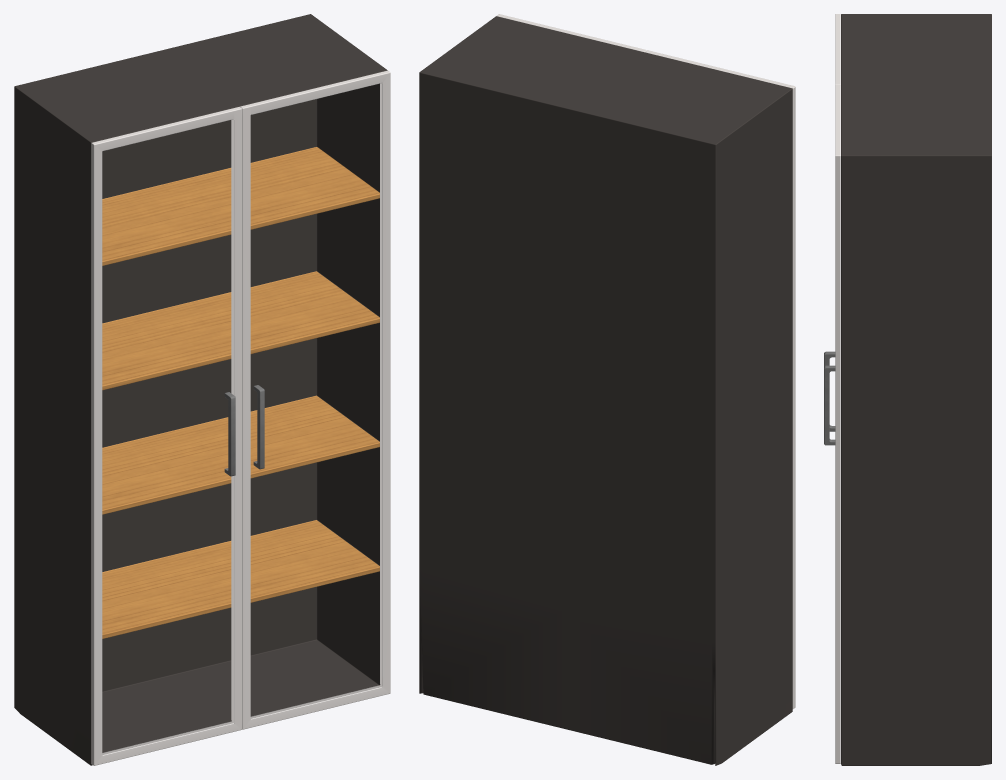
Rendered from cupboard.fbx.
3 renders of one model, left to right at view 1: azimuth 30°, elevation 25°; view 2: azimuth 150°, elevation 25°; view 3: azimuth 270°, elevation 25°, orthographic. The views are drawn at different scales.
Parts seen in each view (by area): view 1: Cupboard 900 450 1800 mm Glass Door; view 2: Cupboard 900 450 1800 mm Glass Door; view 3: Cupboard 900 450 1800 mm Glass Door.
Part boxes in pixels (x1,y1,x2,y2): Cupboard 900 450 1800 mm Glass Door: (14, 14, 390, 765); Cupboard 900 450 1800 mm Glass Door: (419, 14, 795, 765); Cupboard 900 450 1800 mm Glass Door: (824, 14, 991, 765).
Size of the model in its own units: 90.05 by 181 by 45.02.
